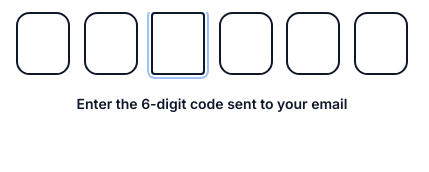
Test: OTPInput › Input Behavior › handles multi-character input from rapid typing
This screenshot has width=429, height=172.
# Simulate rapid multi-character input
Type "345" into the field named "Digit 3 of 6" at (178, 44), box [151,12,205,75]
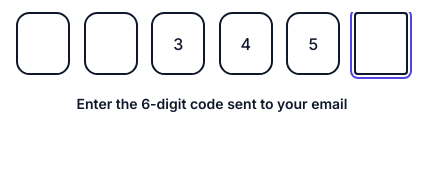
Now the field named "Digit 3 of 6" holds "3", box [151,12,205,75]
Now the field named "Digit 4 of 6" holds "4", box [219,12,273,75]
Now the field named "Digit 5 of 6" holds "5", box [286,12,340,75]
